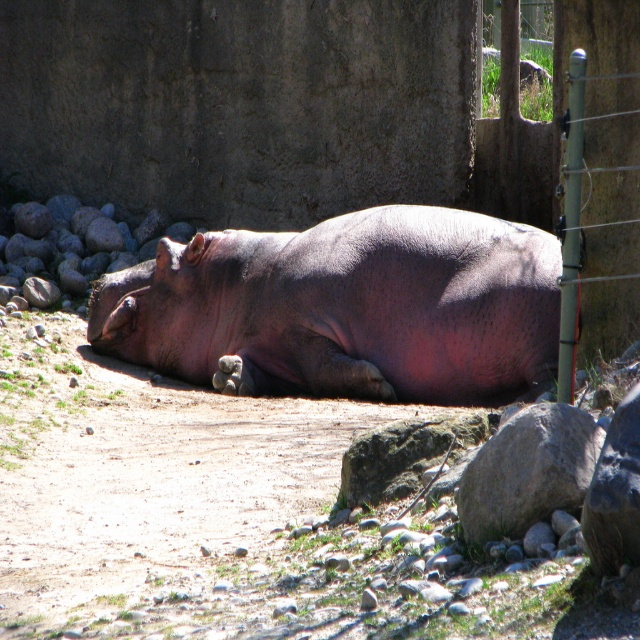Hippopotamus: (85, 199, 559, 402)
